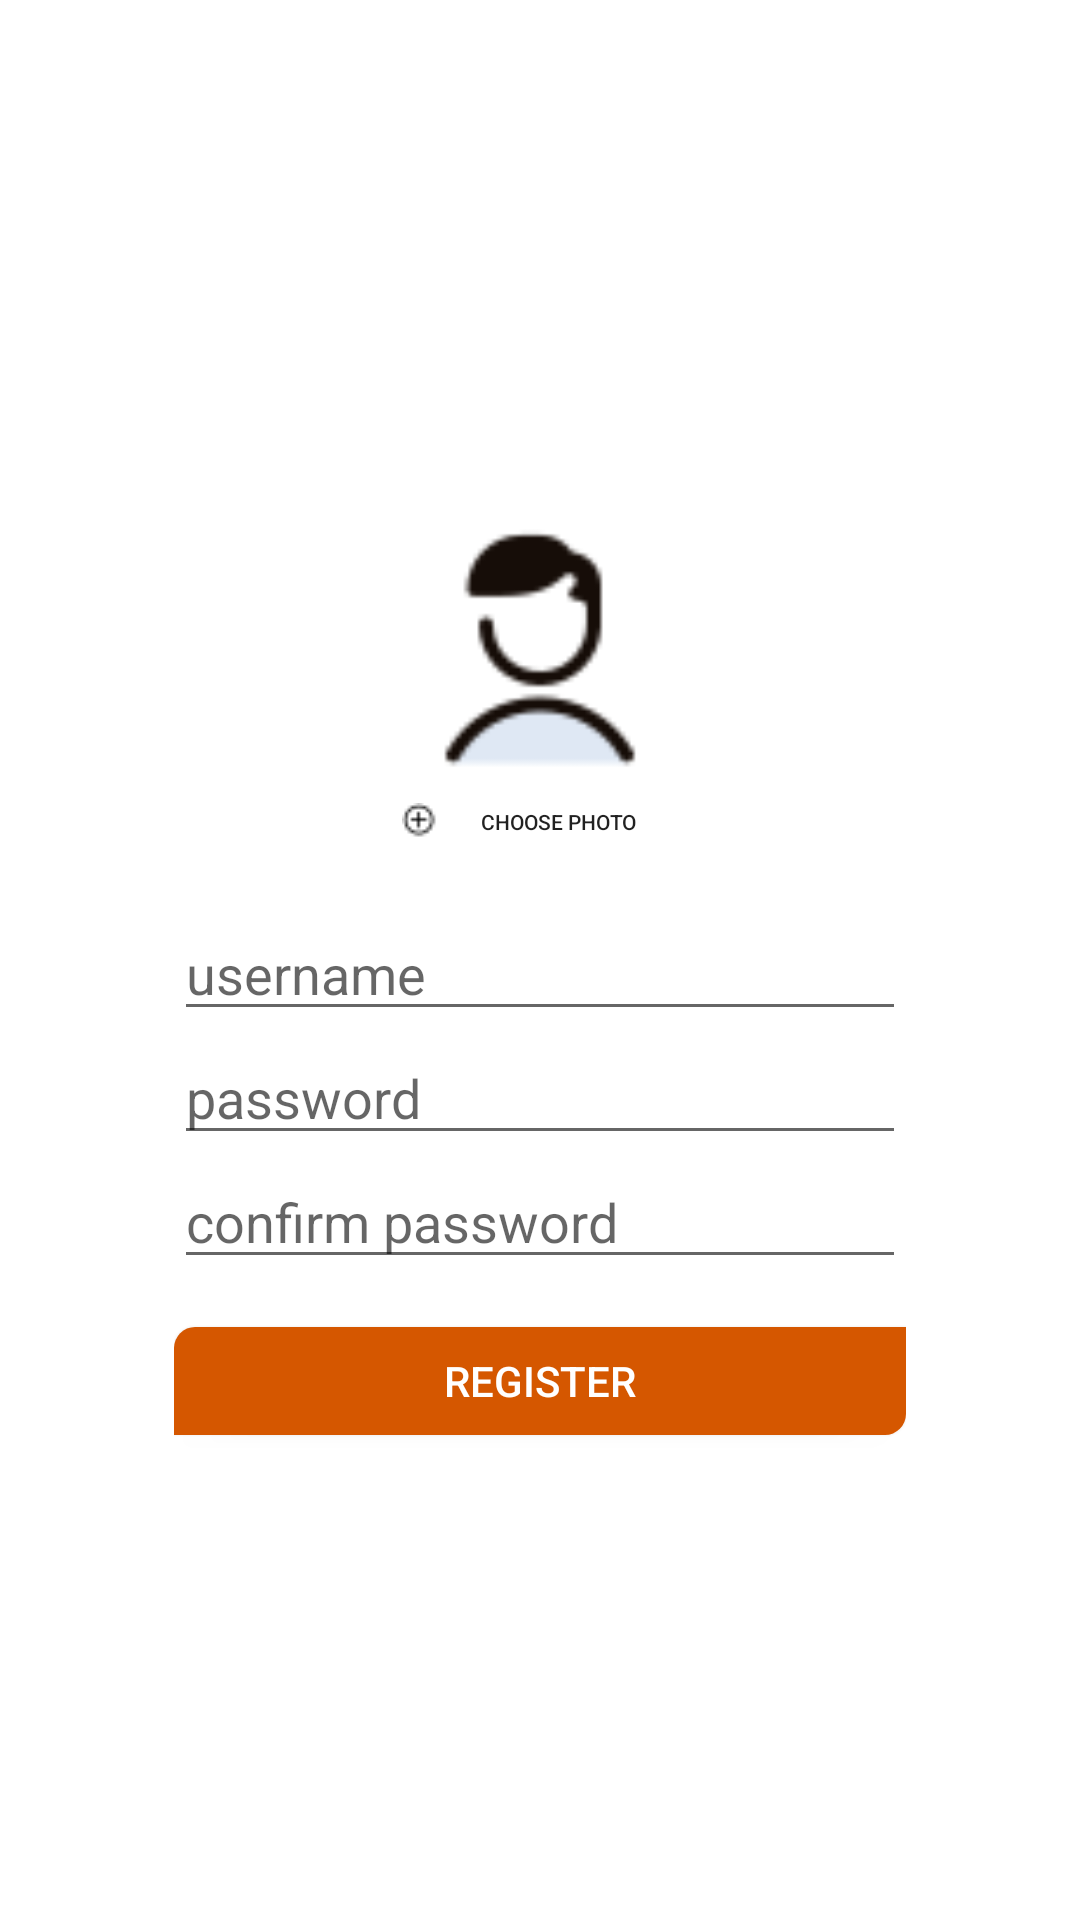

Icons on this 1080 × 1920 Android screen, each with its box as (x1, y1, x2, y2):
profile: (444, 533, 636, 766)
